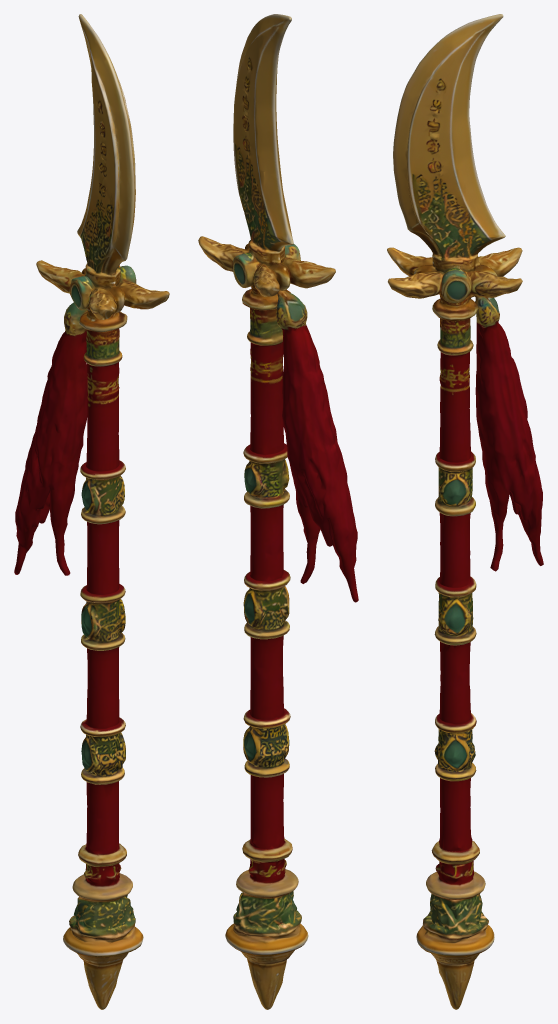
Rendered from look-weapon2-t10-tripo.glb.
3 views of the same model, side by side, from view 1: azimuth 30°, elevation 25°; view 2: azimuth 210°, elevation 25°; view 3: azimuth 270°, elevation 25° (orthographic). The views are drawn at different scales.
Parts seen in each view (by area): view 1: tripo_node_8402785a-c715-4e5b-bdd0-73d7a0e57738; view 2: tripo_node_8402785a-c715-4e5b-bdd0-73d7a0e57738; view 3: tripo_node_8402785a-c715-4e5b-bdd0-73d7a0e57738.
Boxes of the visible parts, x1=… form: tripo_node_8402785a-c715-4e5b-bdd0-73d7a0e57738: x1=14, y1=14, x2=169, y2=1009; tripo_node_8402785a-c715-4e5b-bdd0-73d7a0e57738: x1=198, y1=14, x2=358, y2=1009; tripo_node_8402785a-c715-4e5b-bdd0-73d7a0e57738: x1=387, y1=14, x2=543, y2=1009.
Size of the model in its own units: 0.093 by 1 by 0.1428.
1 material, 1 textured.
